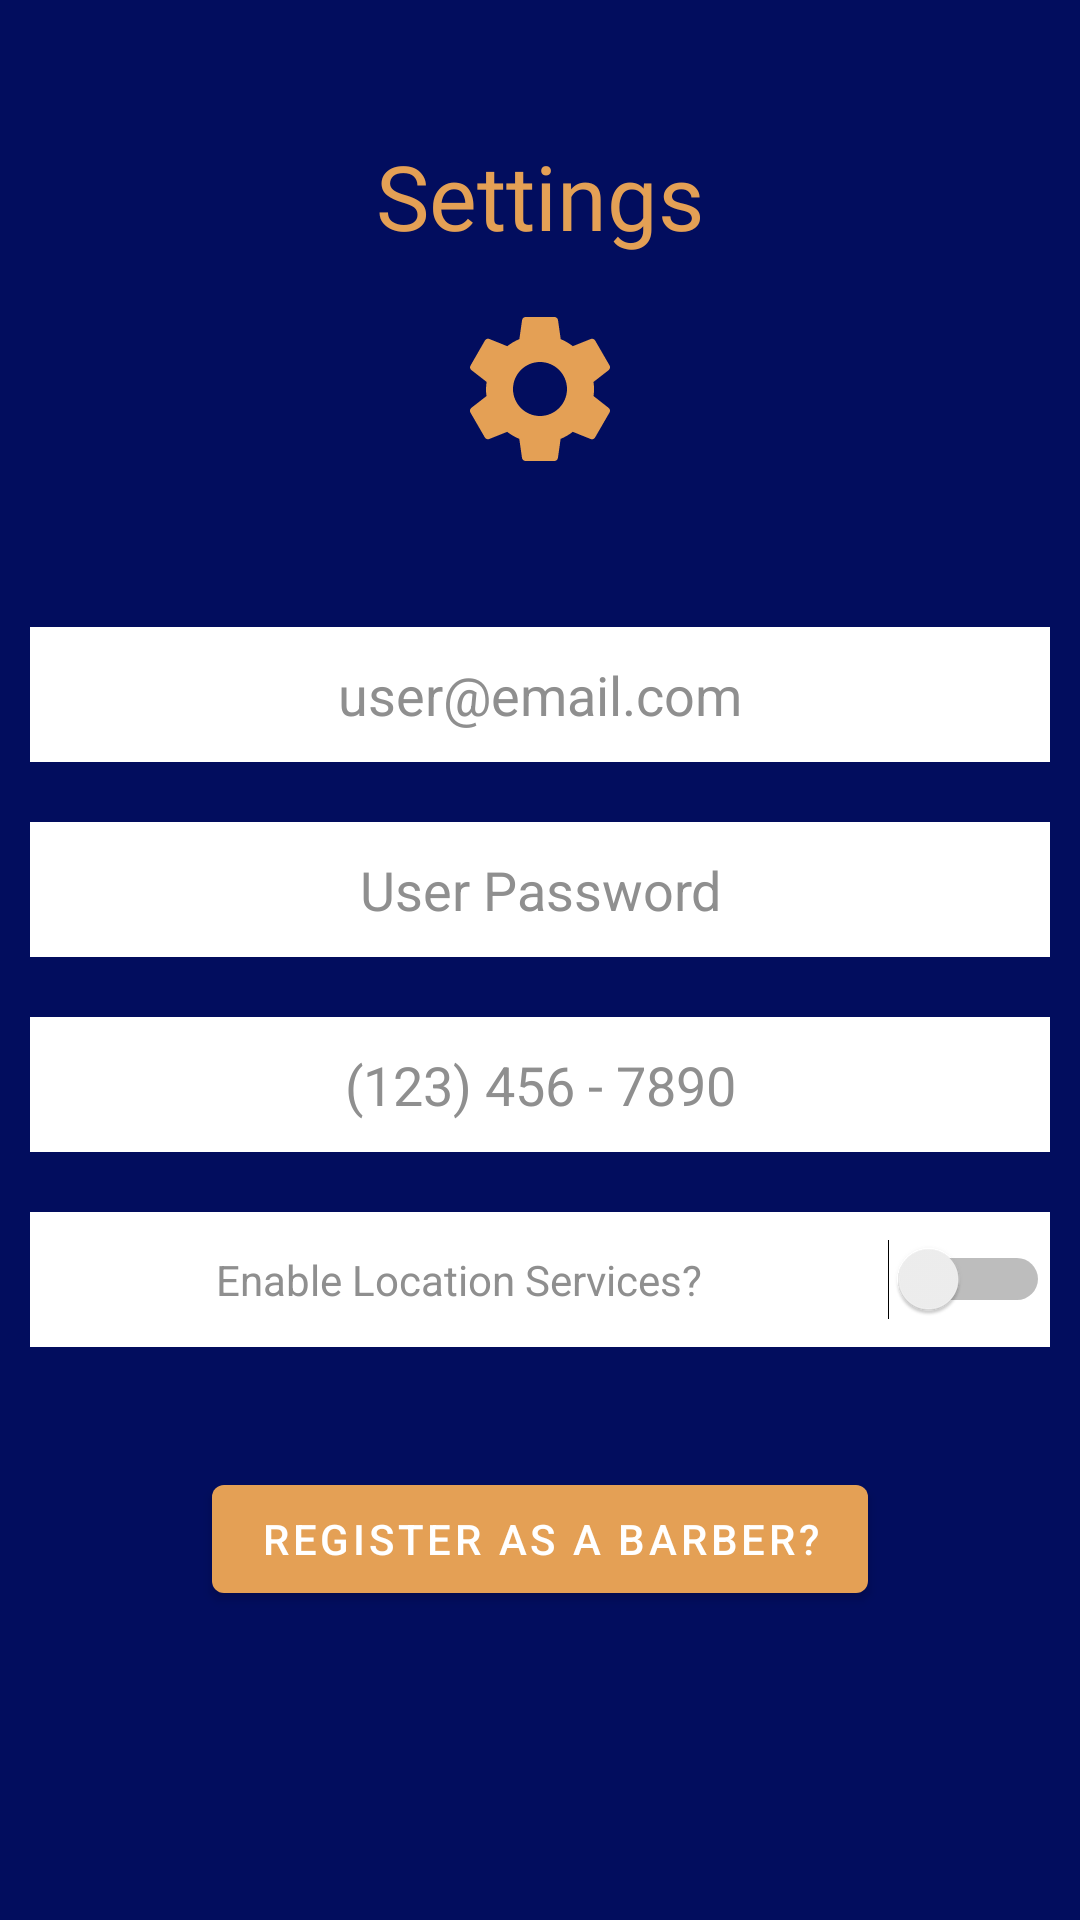

Named icons in this screenshot (1080 × 1920) and their centers, (x=x, y=y):
gear: (x=540, y=389)
